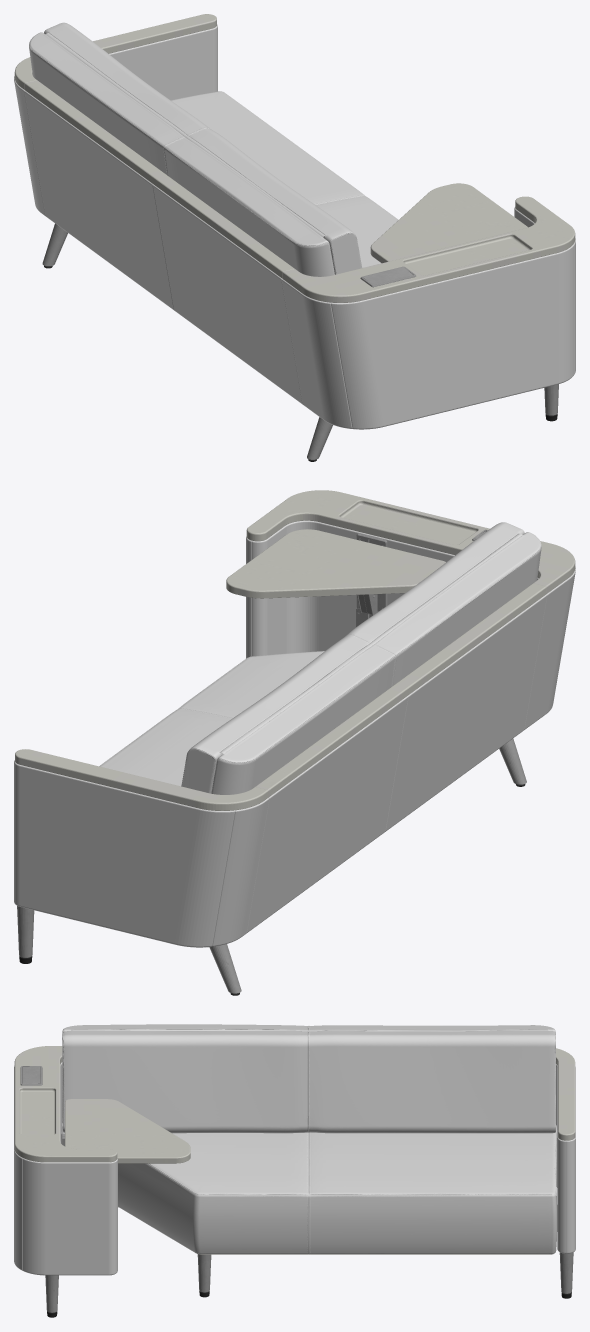
The picture shows the model from 3 angles, top to bottom: view 1: azimuth 30°, elevation 25°; view 2: azimuth 150°, elevation 25°; view 3: azimuth 270°, elevation 25°; orthographic projection. The views are drawn at different scales.
Visible parts, largest first — view 1: part_00, part_03, part_02; view 2: part_00, part_03, part_02; view 3: part_00, part_03, part_02.
Boxes of the visible parts, x1,y1,x2,y2 form: part_00: [14, 22, 575, 429]; part_03: [14, 14, 575, 302]; part_02: [42, 223, 558, 459]; part_00: [14, 520, 575, 947]; part_03: [15, 490, 575, 810]; part_02: [17, 529, 526, 993]; part_00: [14, 1024, 575, 1275]; part_03: [14, 1046, 575, 1254]; part_02: [20, 1066, 573, 1312].
Bounding box in the file's own units: 1.02 × 0.849 × 2.18.
Materials: 4 (3 with a texture image).
